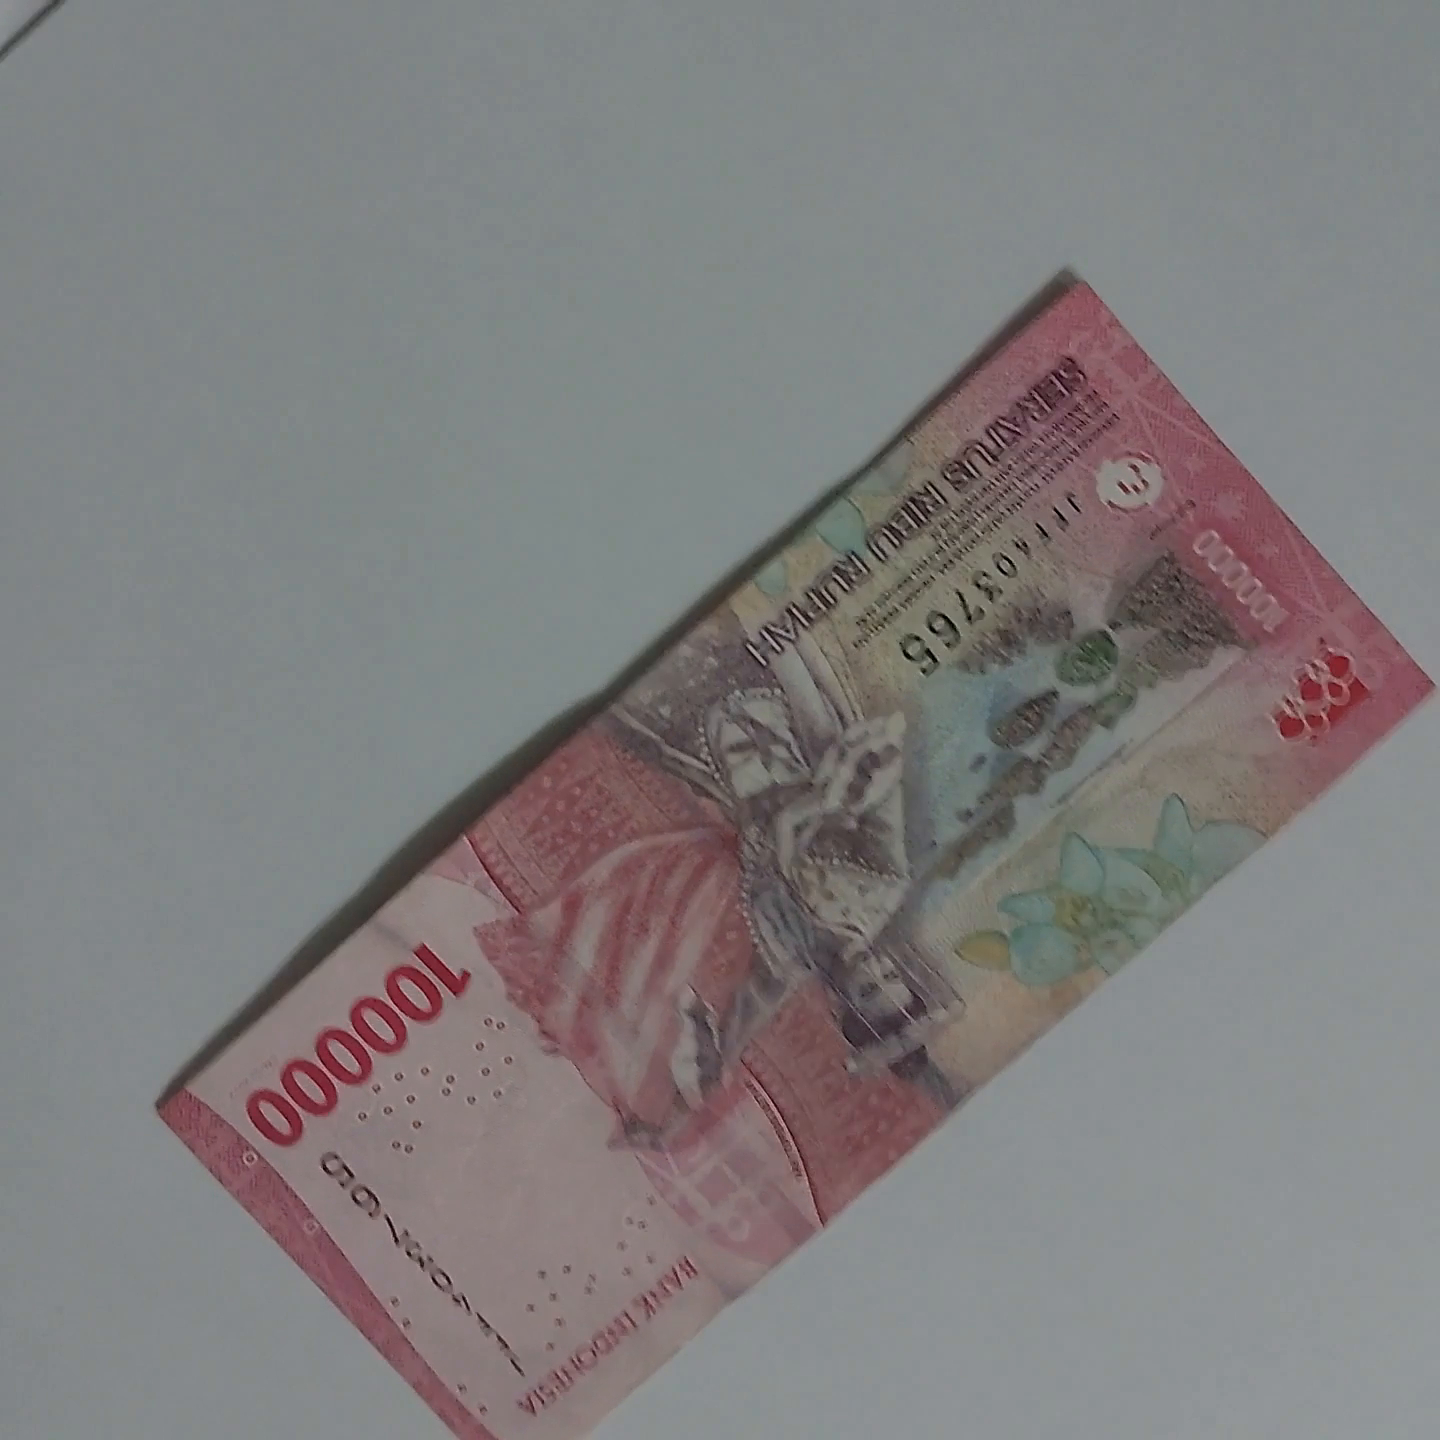100k: (150, 282, 1440, 1440)
